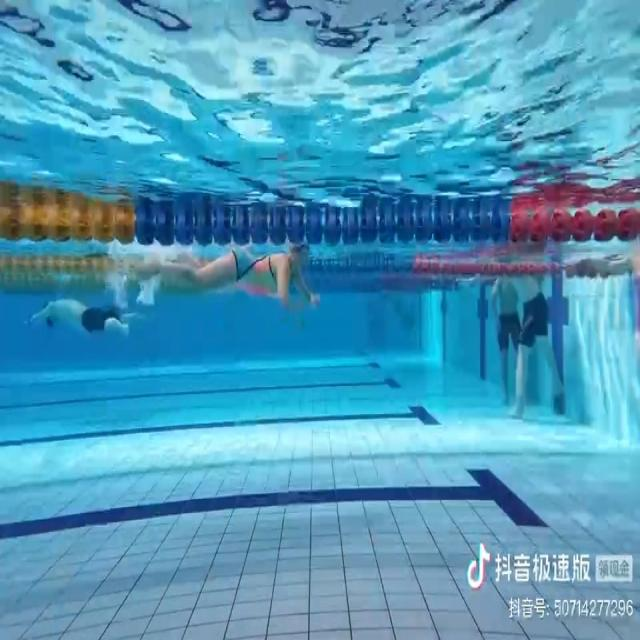Swimming: (142, 244, 320, 314), (22, 300, 131, 343)
